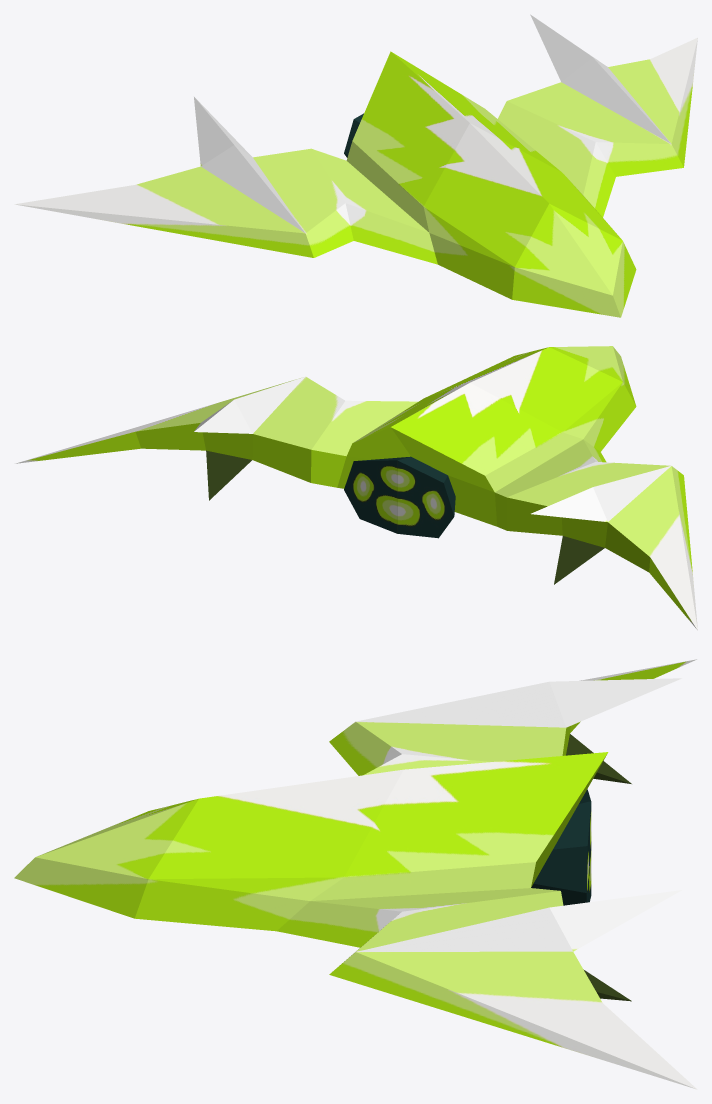
Rendered from spark3.obj.
3 renders of one model, top to bottom at view 1: azimuth 30°, elevation 25°; view 2: azimuth 150°, elevation 25°; view 3: azimuth 270°, elevation 25°, orthographic. The views are drawn at different scales.
Parts seen in each view (by area): view 1: Plane; view 2: Plane; view 3: Plane.
Boxes of the visible parts, x1=… form: Plane: x1=15, y1=14, x2=697, y2=317; Plane: x1=15, y1=346, x2=697, y2=630; Plane: x1=14, y1=659, x2=697, y2=1089.
Bounding box in the file's own units: 2.17 × 0.3383 × 1.46.
Materials: 1 (1 with a texture image).
